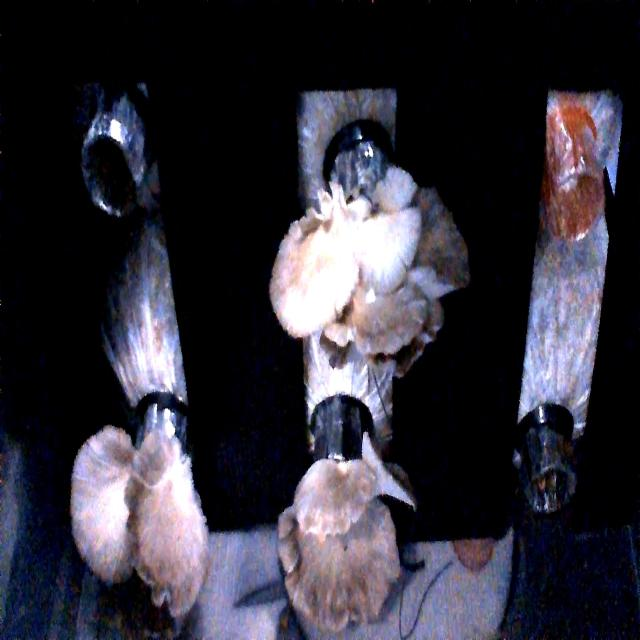big: (265, 137, 480, 400), (262, 426, 418, 624), (79, 399, 211, 587)
nfound: (70, 112, 158, 243), (548, 115, 606, 256), (524, 428, 578, 544)
